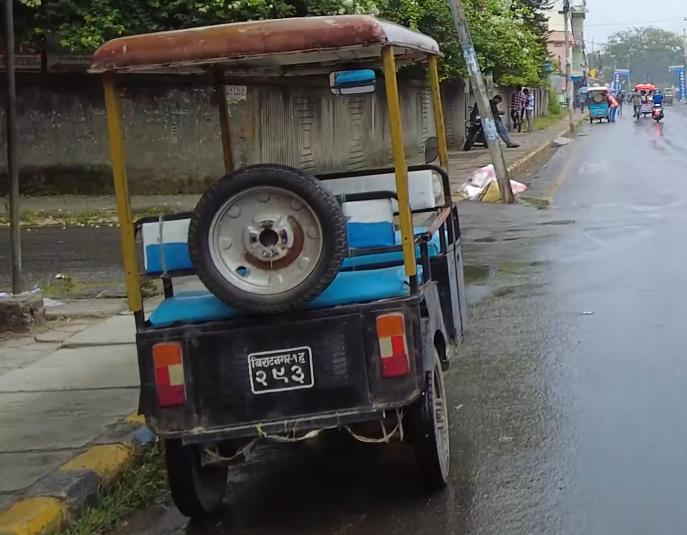e-rickshaw: (89, 18, 472, 505), (585, 85, 616, 127)
